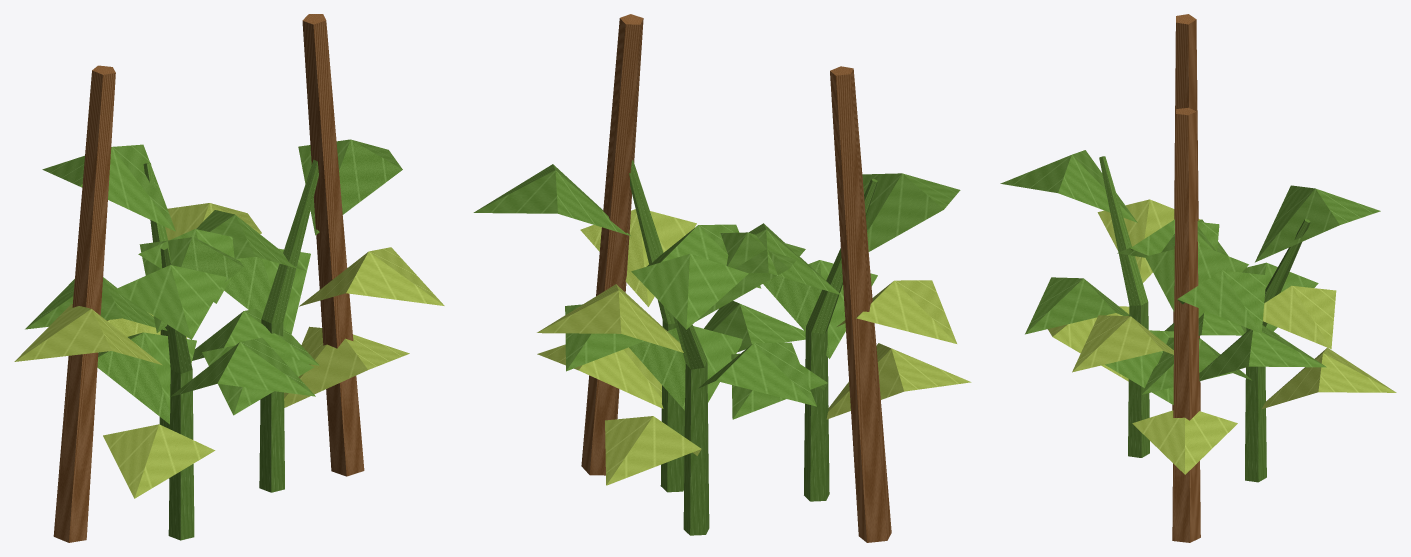
Rendered from crop-cucumber-young.glb.
3 renders of one model, left to right at view 1: azimuth 30°, elevation 25°; view 2: azimuth 150°, elevation 25°; view 3: azimuth 270°, elevation 25°, orthographic. The views are drawn at different scales.
Visible parts, largest first — view 1: crop-cucumber-young; view 2: crop-cucumber-young; view 3: crop-cucumber-young.
Boxes of the visible parts, bbox=[...] form: crop-cucumber-young: bbox=[14, 14, 444, 542]; crop-cucumber-young: bbox=[473, 14, 971, 542]; crop-cucumber-young: bbox=[1000, 14, 1396, 542].
Bounding box in the file's own units: 0.5108 × 0.5223 × 0.4544.
1 material, 1 textured.
